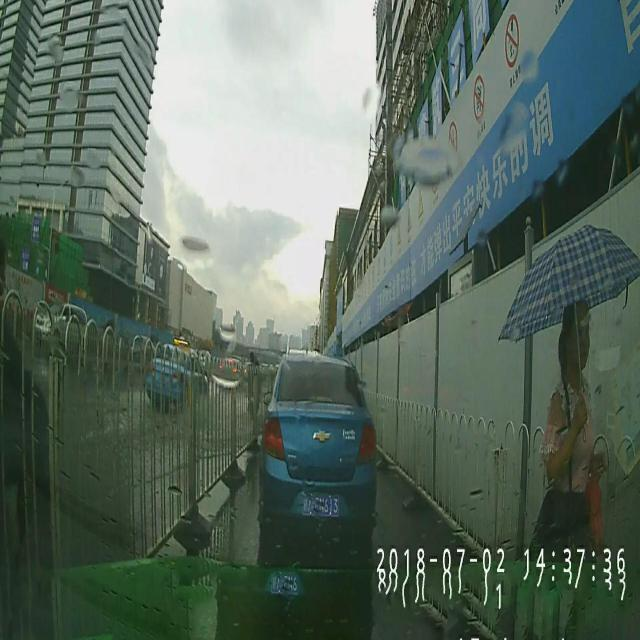car: (260, 352, 378, 530), (144, 334, 210, 410)
